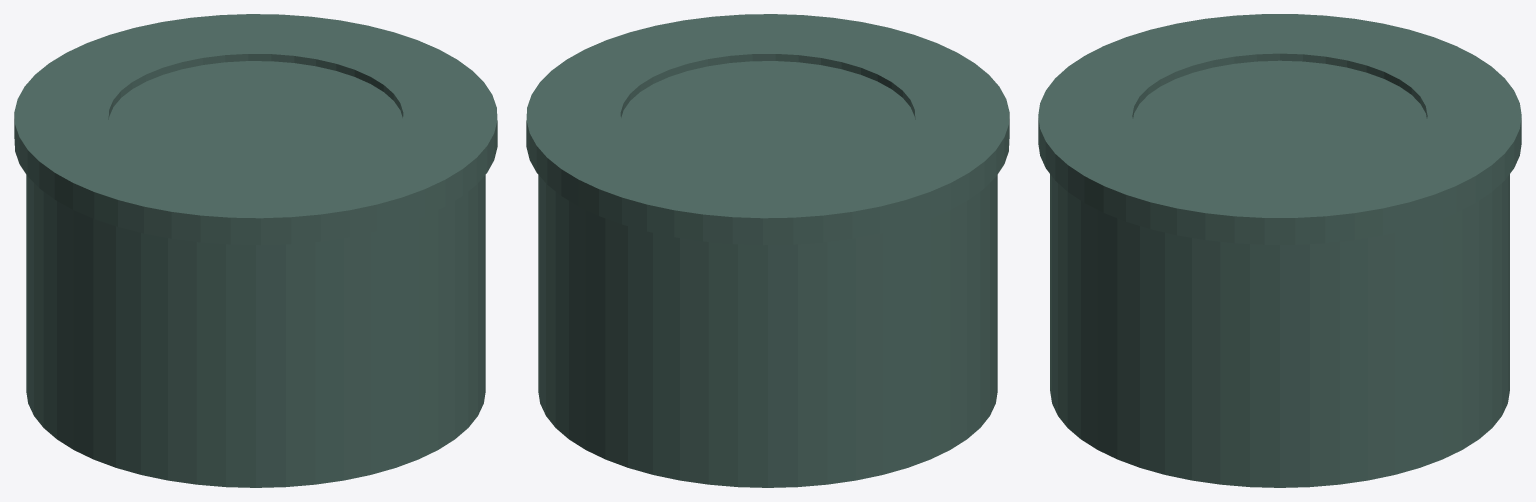
Rendered from SRCFSTPCR.glb.
3 views of the same model, side by side, from view 1: azimuth 30°, elevation 25°; view 2: azimuth 150°, elevation 25°; view 3: azimuth 270°, elevation 25° (orthographic).
Visible parts, largest first — view 1: 20748005; view 2: 20748005; view 3: 20748005.
Part boxes in pixels (x1,y1,x2,y2): 20748005: [14, 14, 497, 487]; 20748005: [526, 14, 1009, 487]; 20748005: [1038, 14, 1521, 487].
Size of the model in its own units: 0.998 by 0.627 by 1.
